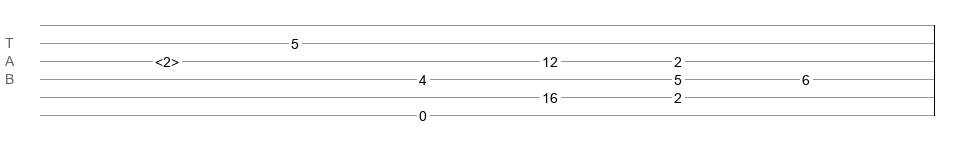0: (419, 108, 427, 118)
12: (542, 54, 558, 64)
16: (542, 90, 558, 100)
2: (674, 90, 682, 100), (674, 54, 682, 64)
4: (419, 72, 427, 82)
5: (291, 36, 299, 46), (674, 72, 682, 82)
6: (802, 72, 810, 82)
harmonic: (155, 54, 179, 64)
